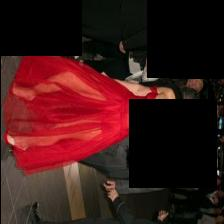red: (2, 53, 172, 175)
